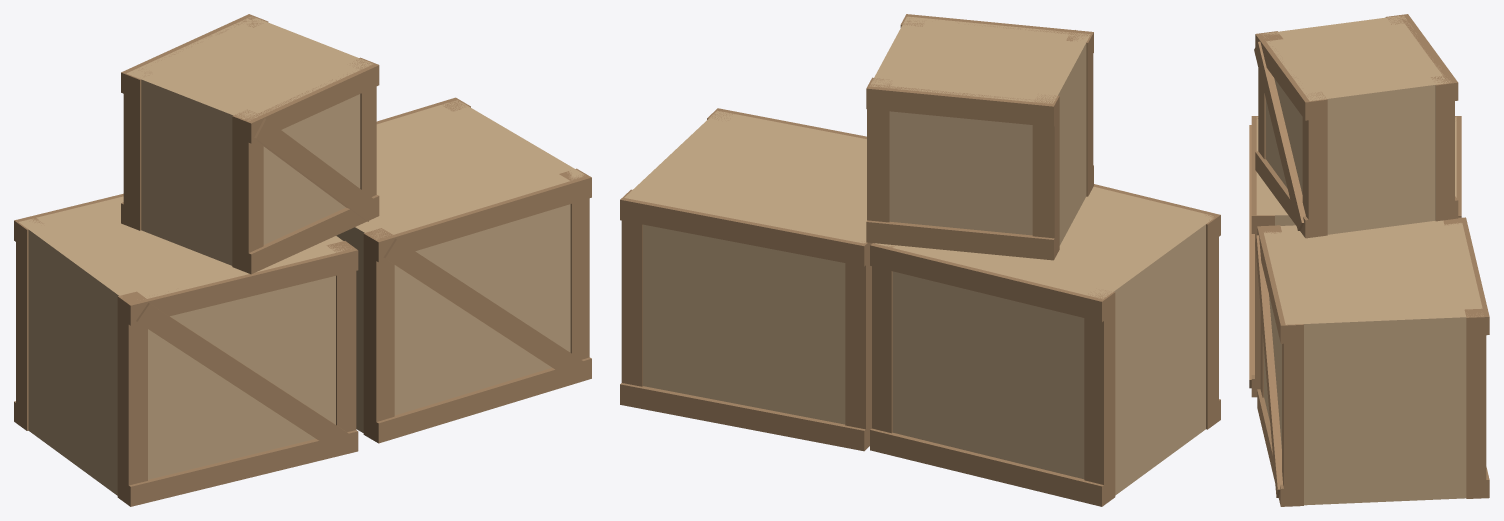
Rendered from SM_Crate_Stack.glb.
3 renders of one model, left to right at view 1: azimuth 30°, elevation 25°; view 2: azimuth 150°, elevation 25°; view 3: azimuth 270°, elevation 25°, orthographic. The views are drawn at different scales.
Parts seen in each view (by area): view 1: SM_Crate_Stack; view 2: SM_Crate_Stack; view 3: SM_Crate_Stack.
Boxes of the visible parts, <box> form: SM_Crate_Stack: <box>14,14,591,506</box>; SM_Crate_Stack: <box>620,14,1220,506</box>; SM_Crate_Stack: <box>1249,14,1489,506</box>.
Size of the model in its own units: 1.49 by 1.05 by 0.7214.
